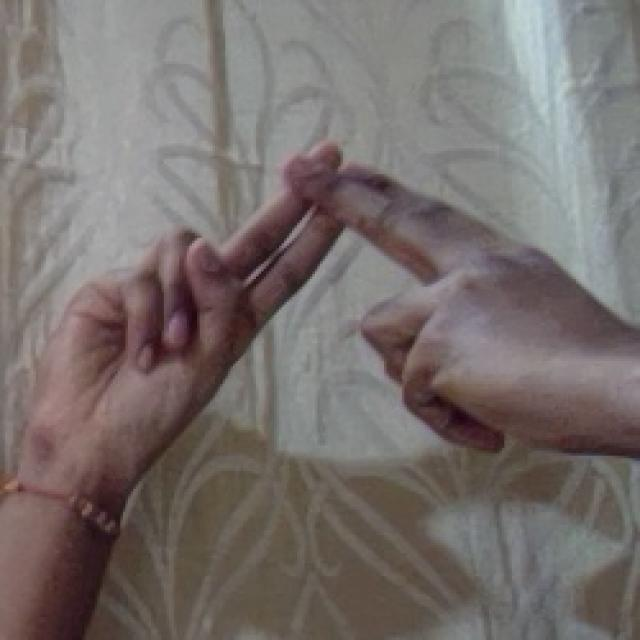Alphabet-F: (8, 141, 640, 532)
